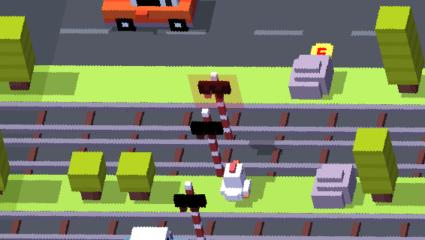hen: (220, 159, 251, 202)
obstacle: (375, 5, 421, 94), (102, 0, 195, 32), (354, 129, 394, 201), (0, 17, 34, 90), (68, 152, 107, 201), (117, 153, 156, 201), (291, 56, 332, 98), (311, 165, 351, 206), (130, 228, 173, 240)
